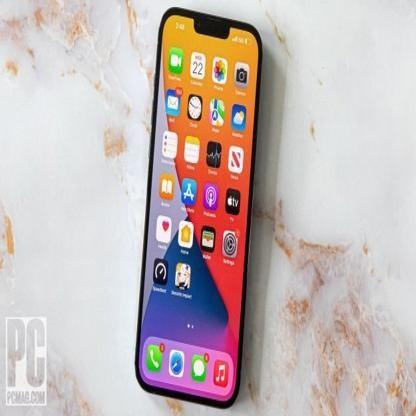not trash: (134, 6, 244, 406)
